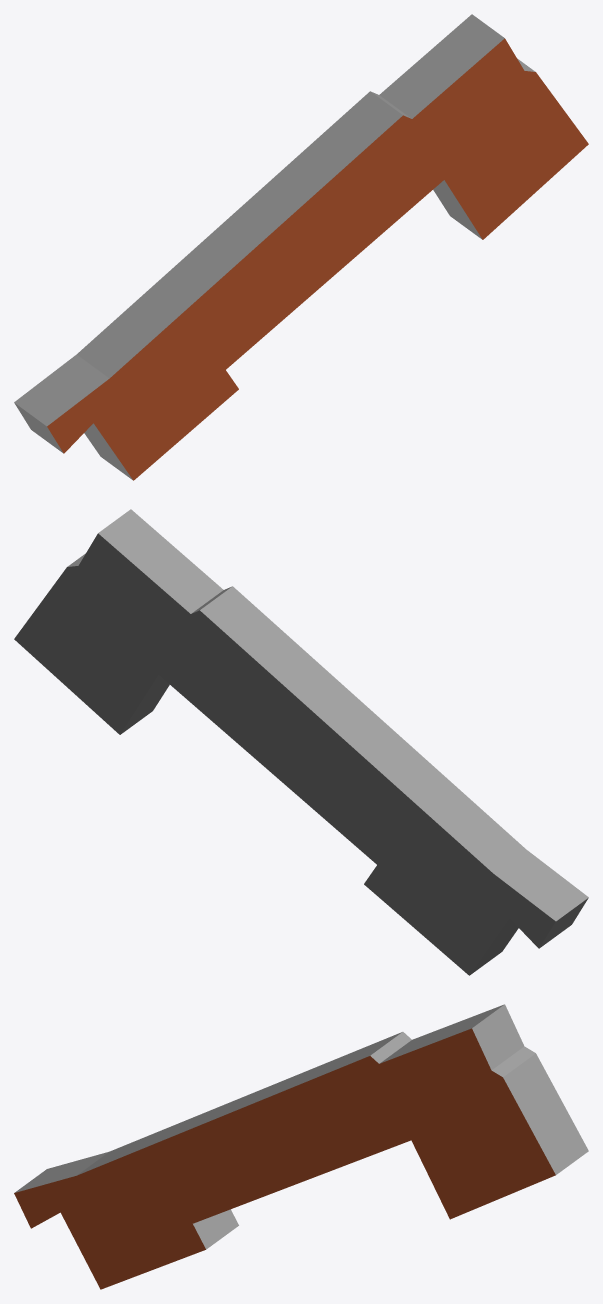
Rendered from construction_4319_assumed_A_Casa_h6m.obj.
3 renders of one model, top to bottom at view 1: azimuth 30°, elevation 25°; view 2: azimuth 150°, elevation 25°; view 3: azimuth 330°, elevation 25°, orthographic.
Visible parts, largest first — view 1: construction_4319_assumed_A_Casa; view 2: construction_4319_assumed_A_Casa; view 3: construction_4319_assumed_A_Casa.
Part boxes in pixels (x1,y1,x2,y2): construction_4319_assumed_A_Casa: (14,14,588,480); construction_4319_assumed_A_Casa: (14,509,588,975); construction_4319_assumed_A_Casa: (14,1004,588,1289).
Size of the model in its own units: 56.93 by 35.33 by 6.
